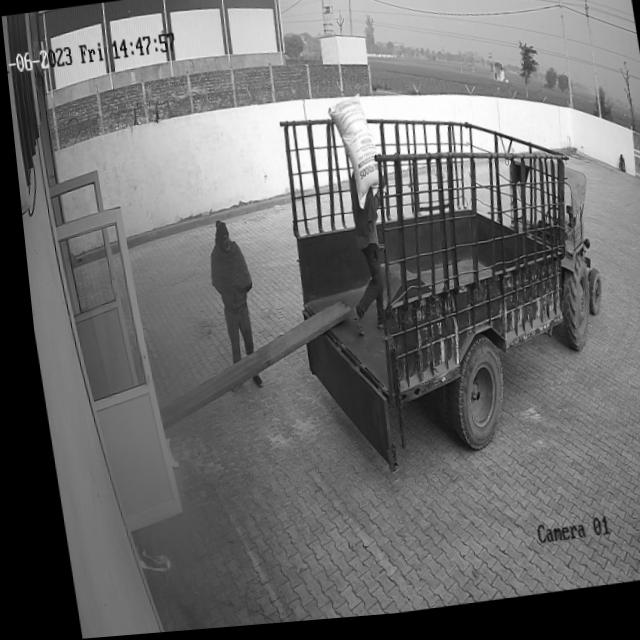sack: (323, 97, 381, 217)
